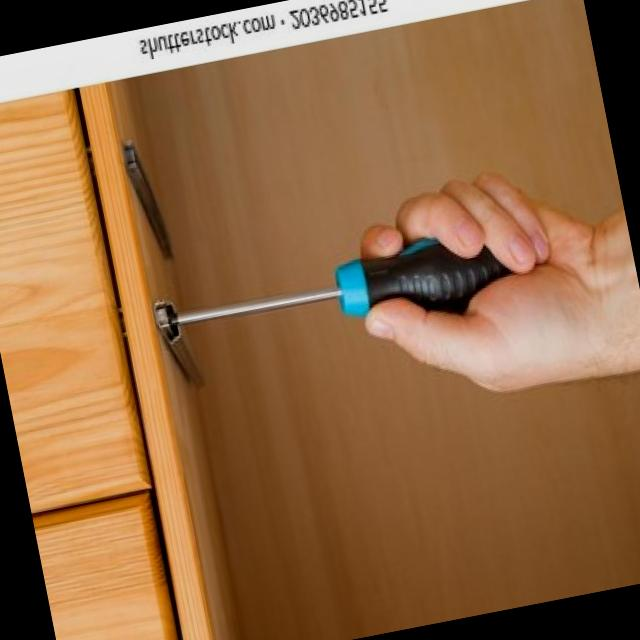screwdriver: (179, 238, 509, 324)
